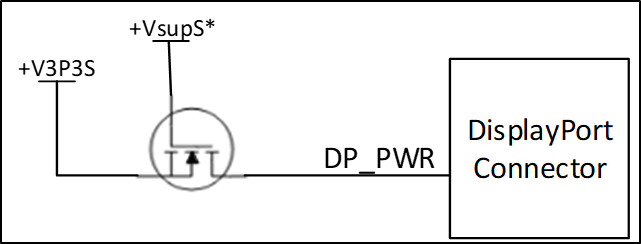mosfet: (148, 105, 234, 191)
power: (14, 43, 106, 95), (126, 7, 218, 59)
rectangle: (444, 46, 634, 240)
